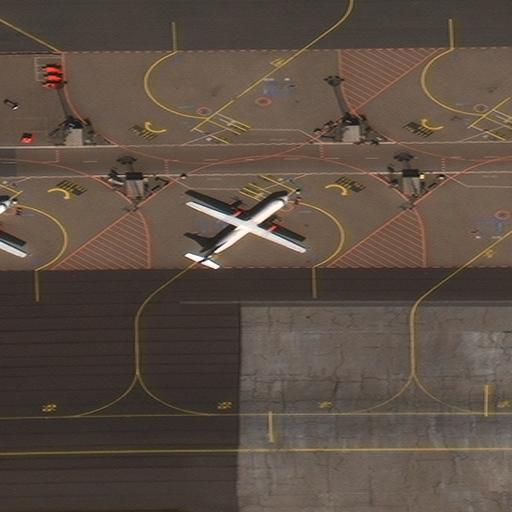Medium Civil Transport: (191, 195, 306, 265)
